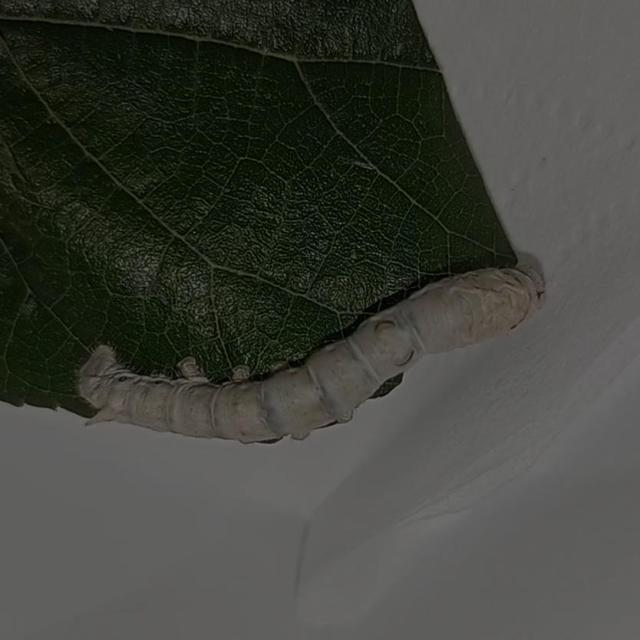Healthy: (31, 238, 585, 474)
